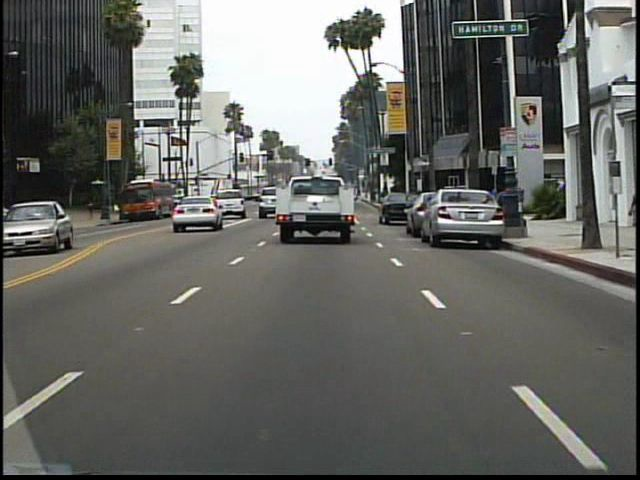person: (620, 173, 639, 235), (86, 199, 99, 224)
